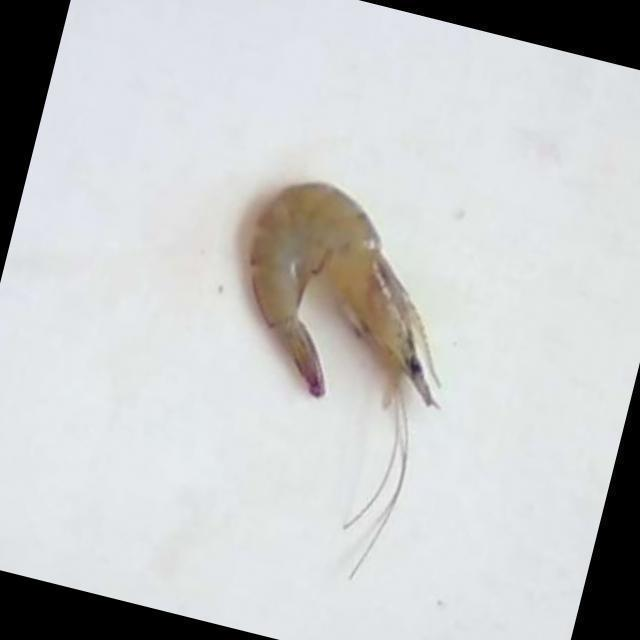shrimp: (249, 182, 437, 406)
